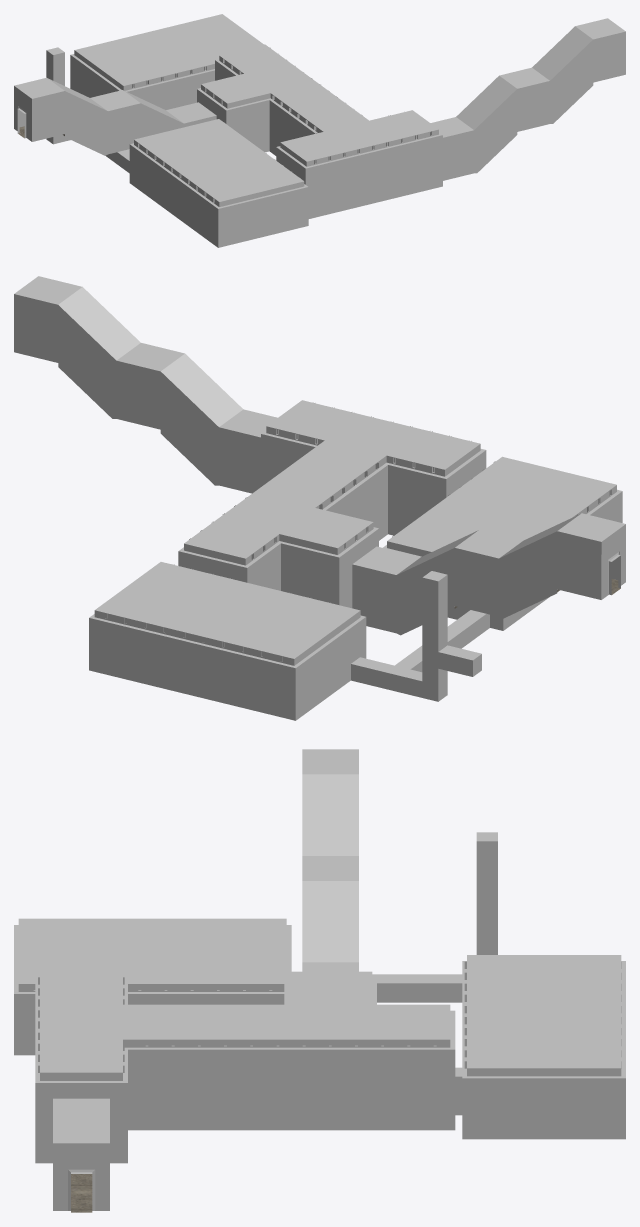
File: Basement_Section.FBX
The picture shows the model from 3 angles, top to bottom: view 1: azimuth 30°, elevation 25°; view 2: azimuth 150°, elevation 25°; view 3: azimuth 270°, elevation 25°; orthographic projection. The views are drawn at different scales.
Visible parts, largest first — view 1: Basement_Section; view 2: Basement_Section; view 3: Basement_Section.
Boxes of the visible parts, x1,y1,x2,y2 form: Basement_Section: (14, 14, 625, 247); Basement_Section: (14, 276, 625, 720); Basement_Section: (14, 749, 625, 1212).
Size of what is drawn, in the model's own units: 5197 by 1011 by 3386.
